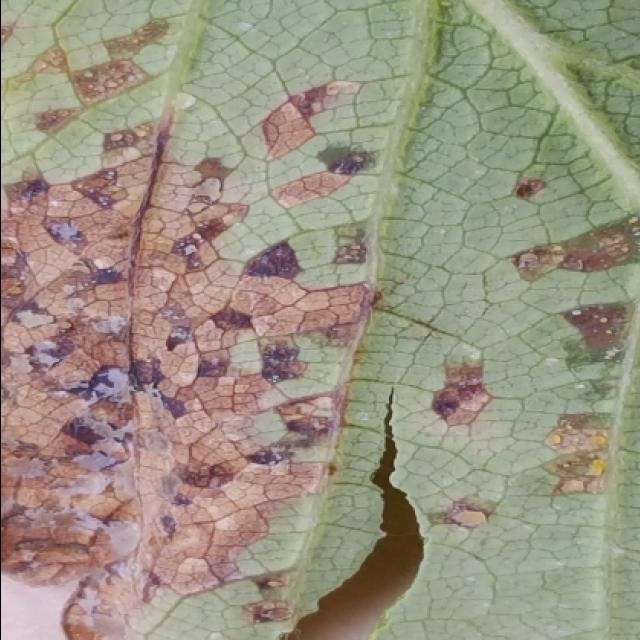Angular Leafspot: (2, 2, 640, 640)
